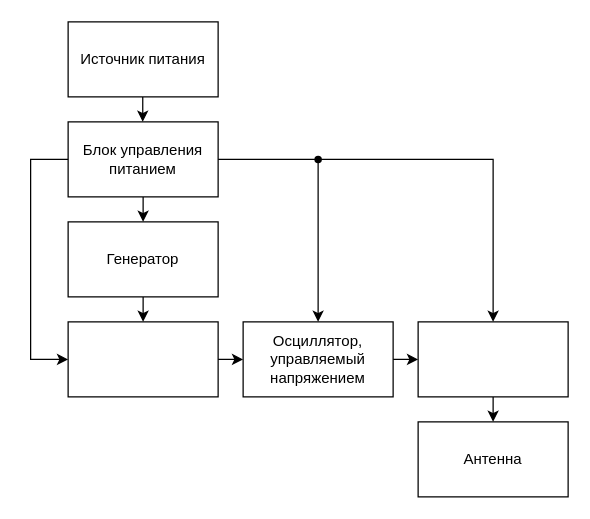
Image size: 590x519. Some labels were removed from this diagram. The shapes that lost their labels are listed below. From the top down, each one's centre as x and y in pixels, then its label:
(x=142, y=359): Преобразователь генерируемых импульсов
(x=492, y=359): Вывод на радиоантенну
